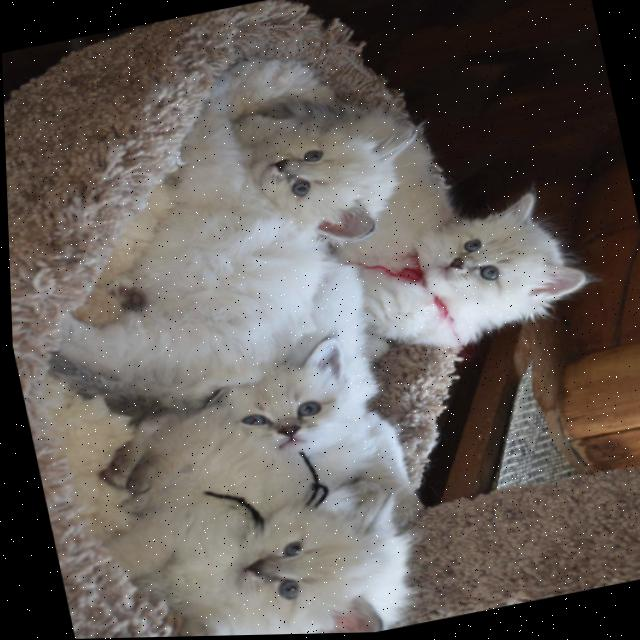Neva Masquerade: (2, 44, 469, 426), (89, 373, 422, 639), (334, 146, 605, 369), (212, 320, 402, 497)
